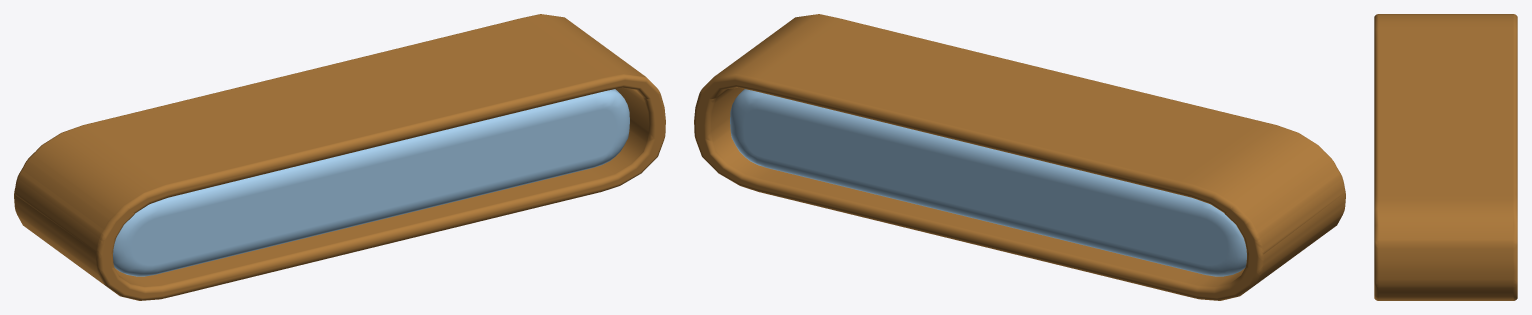
File: ConveyorUnanimatedS.glb
The picture shows the model from 3 angles, left to right: view 1: azimuth 30°, elevation 25°; view 2: azimuth 150°, elevation 25°; view 3: azimuth 270°, elevation 25°; orthographic projection. The views are drawn at different scales.
Visible parts, largest first — view 1: Plane.001, Plane.002; view 2: Plane.001, Plane.002; view 3: Plane.001.
Boxes of the visible parts, left/top/right/bottom form: Plane.001: left=14, top=14, right=665, bottom=300; Plane.002: left=113, top=89, right=629, bottom=276; Plane.001: left=694, top=14, right=1345, bottom=300; Plane.002: left=730, top=89, right=1246, bottom=276; Plane.001: left=1374, top=14, right=1517, bottom=300.
Size of the model in its own units: 2.72 by 0.5168 by 0.7172.
